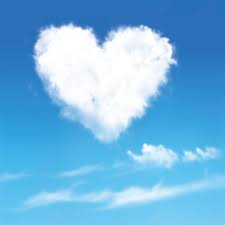sky: (2, 2, 225, 224)
